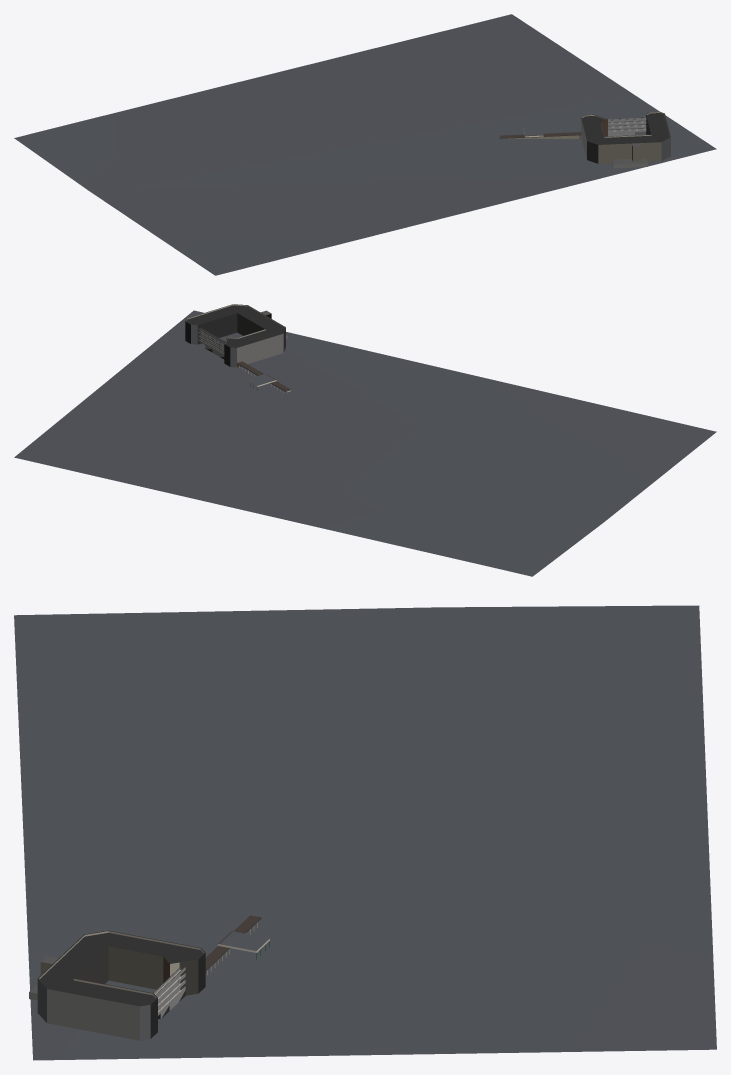
The model's file is chattanooga-choo-choo-hotel-3.glb.
3 views of the same model, one above another, from view 1: azimuth 30°, elevation 25°; view 2: azimuth 150°, elevation 25°; view 3: azimuth 270°, elevation 25° (orthographic). The views are drawn at different scales.
Parts seen in each view (by area): view 1: LOD0; view 2: LOD0; view 3: LOD0.
Boxes of the visible parts, x1,y1,x2,y2 form: LOD0: (14,14,716,275); LOD0: (14,304,716,576); LOD0: (14,605,716,1060).
Size of what is drawn, in the model's own units: 431 by 16.15 by 283.
Materials: 2 (2 with a texture image).
